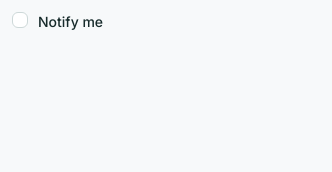
Test: Checkbox (§26) › toggles via keyboard
The image size is (332, 172).
Step 1. Click the checkbox labelled "Notify me" → [20, 20], box [12,12,28,28]
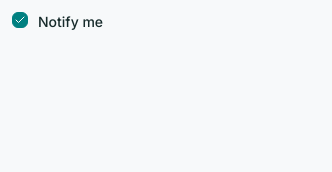
Check: the checkbox labelled "Notify me" is checked, box [12,12,28,28]
